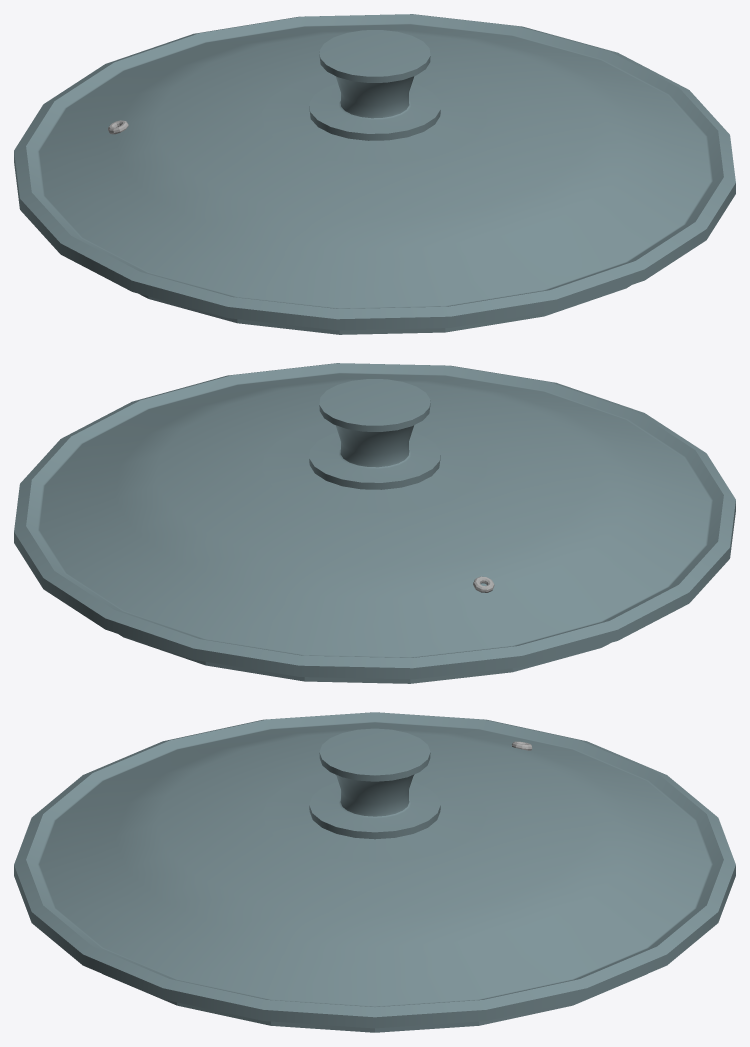
File: Low_PotLid.fbx
3 renders of one model, top to bottom at view 1: azimuth 30°, elevation 25°; view 2: azimuth 150°, elevation 25°; view 3: azimuth 270°, elevation 25°, orthographic.
Visible parts, largest first — view 1: Lo_PotLid; view 2: Lo_PotLid; view 3: Lo_PotLid.
Part boxes in pixels (x1,y1,x2,y2): Lo_PotLid: [14, 14, 735, 334]; Lo_PotLid: [14, 363, 735, 683]; Lo_PotLid: [14, 712, 735, 1032].
Bounding box in the file's own units: 1149 × 247 × 1149.
